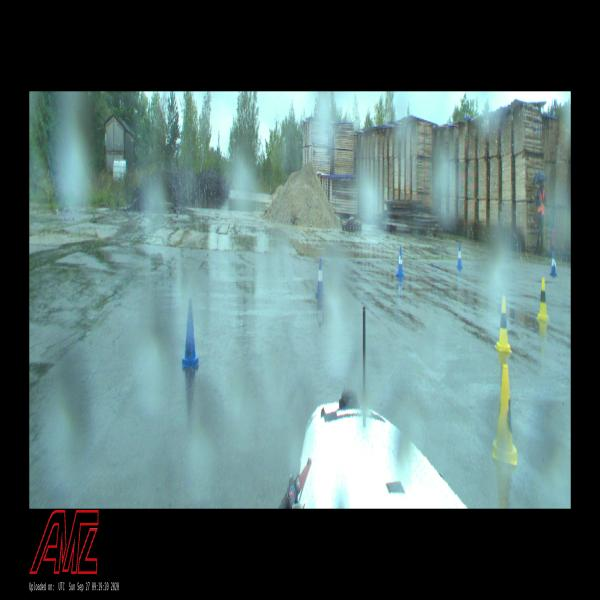blue_cone: (182, 301, 198, 366), (315, 258, 325, 298), (396, 245, 404, 277), (456, 244, 463, 270), (550, 252, 557, 277)
yellow_cone: (492, 362, 518, 465), (495, 294, 512, 353), (537, 276, 550, 323)
